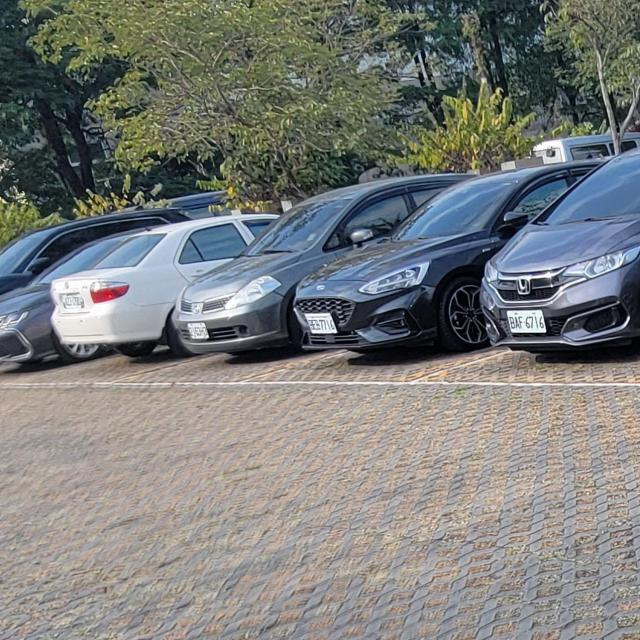W: (504, 306, 546, 336), (302, 310, 337, 335), (184, 317, 212, 341), (61, 288, 87, 310)
